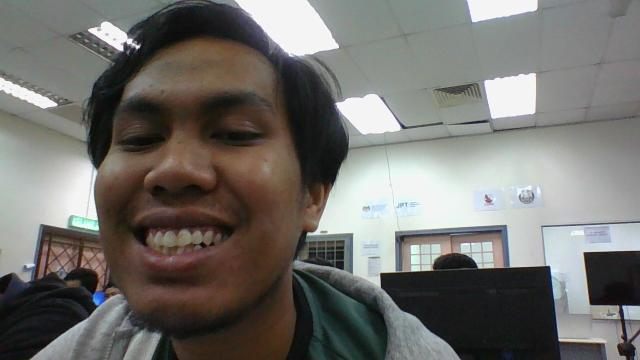senang: (74, 19, 312, 335)
